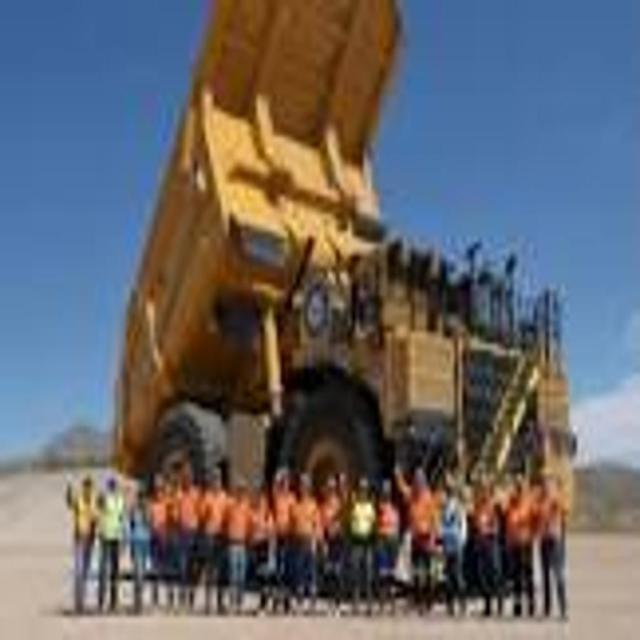dump_truck: (114, 0, 579, 503)
